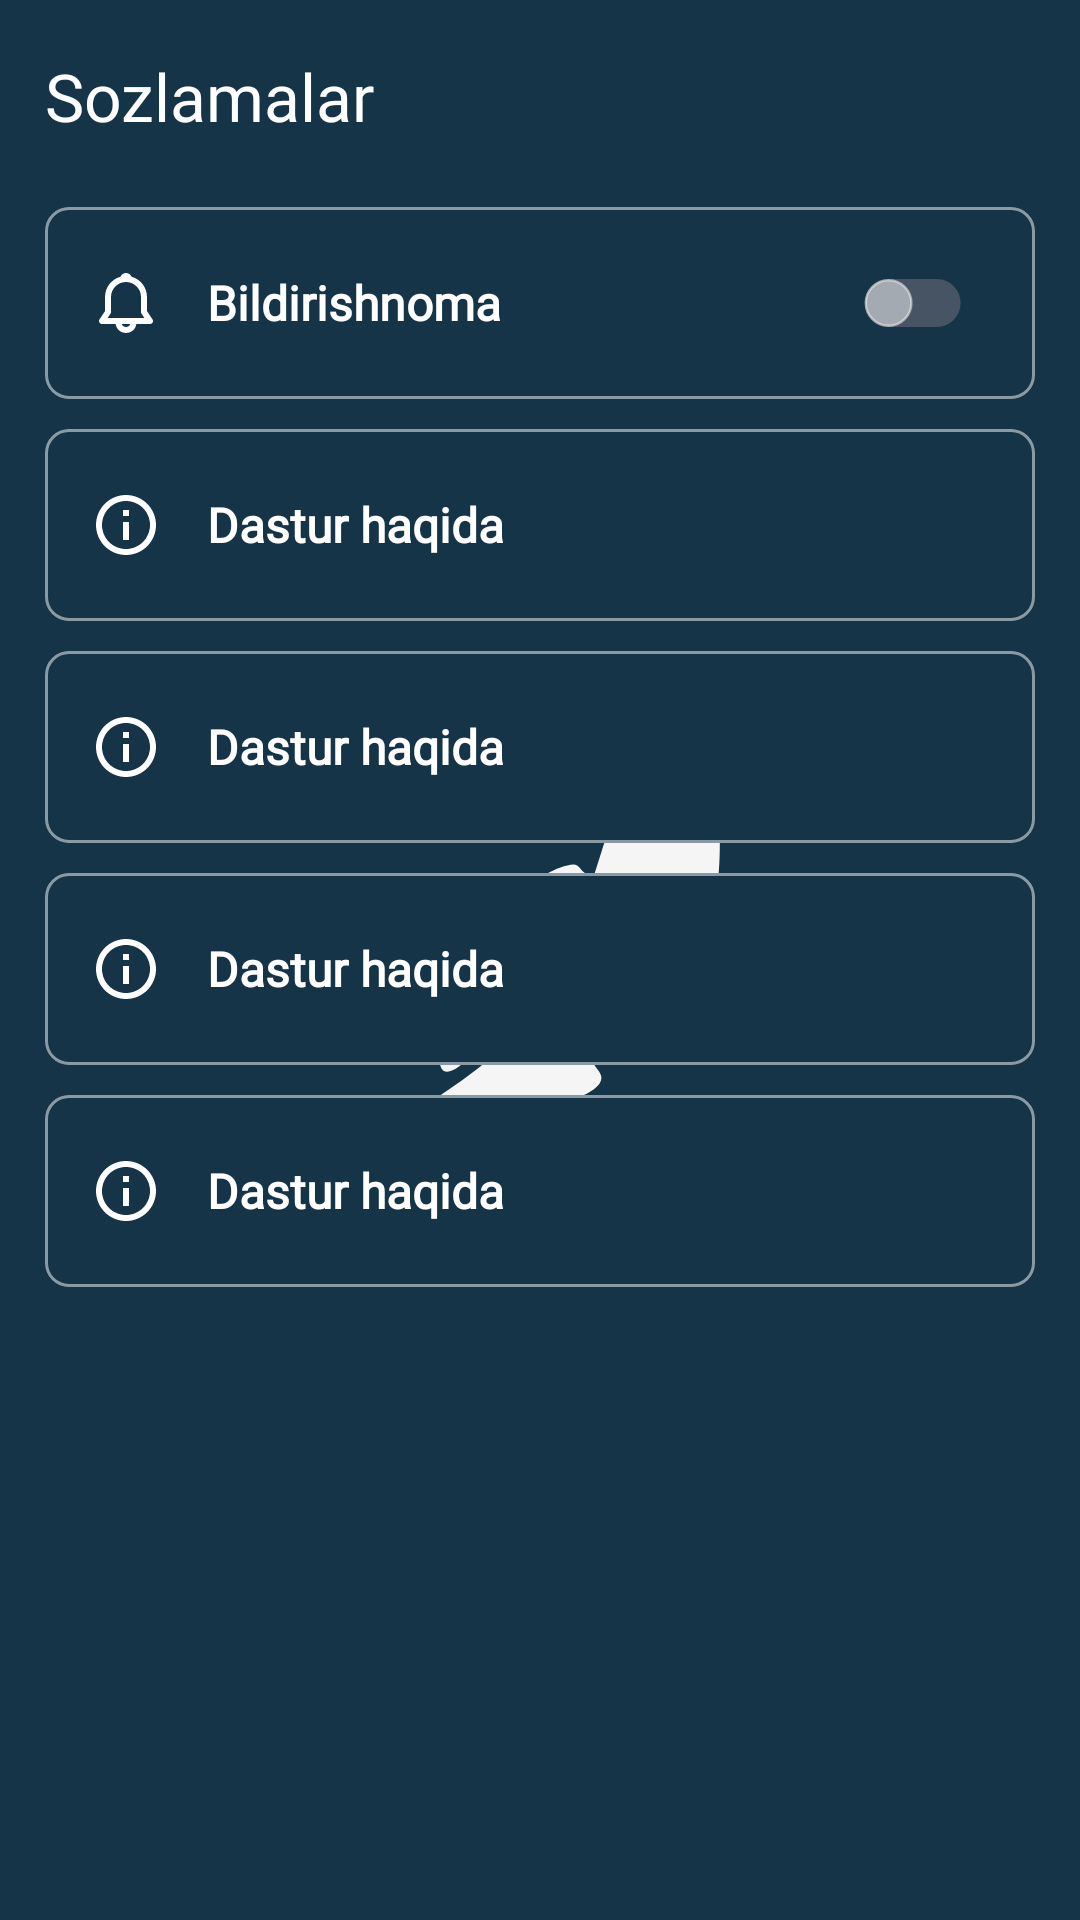

Point at icon controls on the screen. Image size 1080*1920, points as (x=x, y=y).
info: (x=126, y=525), (x=126, y=747), (x=126, y=969), (x=126, y=1191)
notification: (x=126, y=303)
